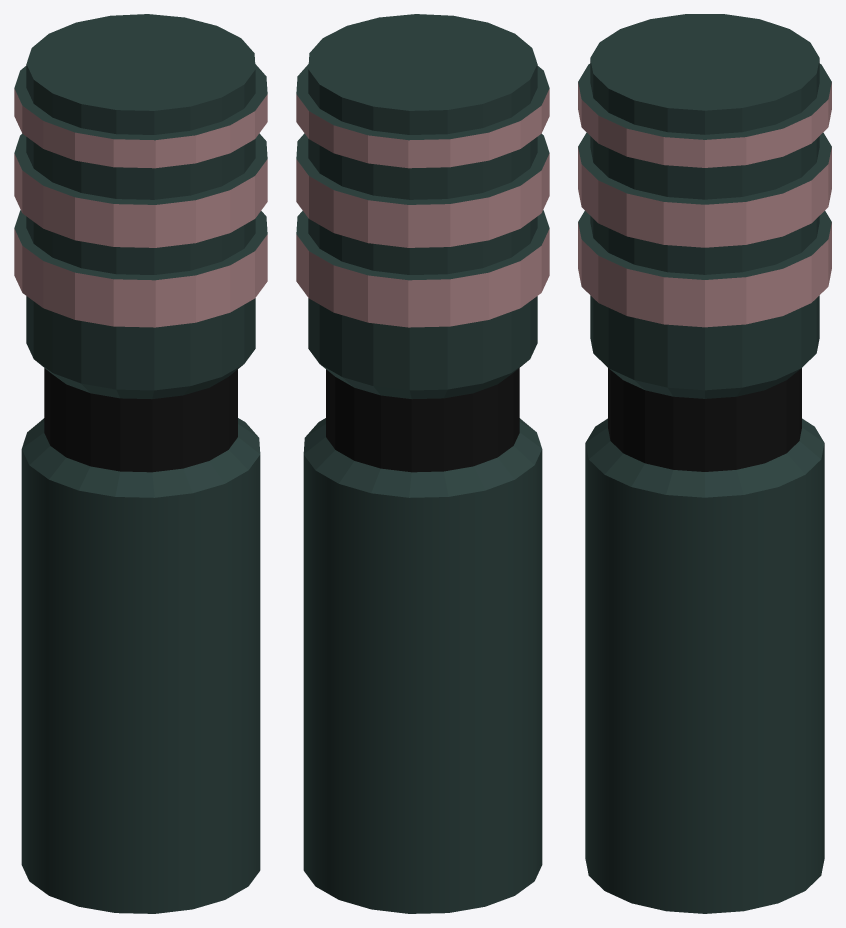
The model's file is tuyau près porte.FBX.
3 renders of one model, left to right at view 1: azimuth 30°, elevation 25°; view 2: azimuth 150°, elevation 25°; view 3: azimuth 270°, elevation 25°, orthographic.
Parts seen in each view (by area): view 1: tuyau près porte; view 2: tuyau près porte; view 3: tuyau près porte.
Boxes of the visible parts, x1,y1,x2,y2 form: tuyau près porte: (14,14,267,913); tuyau près porte: (296,14,549,913); tuyau près porte: (578,14,831,913).
Size of the model in its own units: 53.9 by 188 by 54.08.
